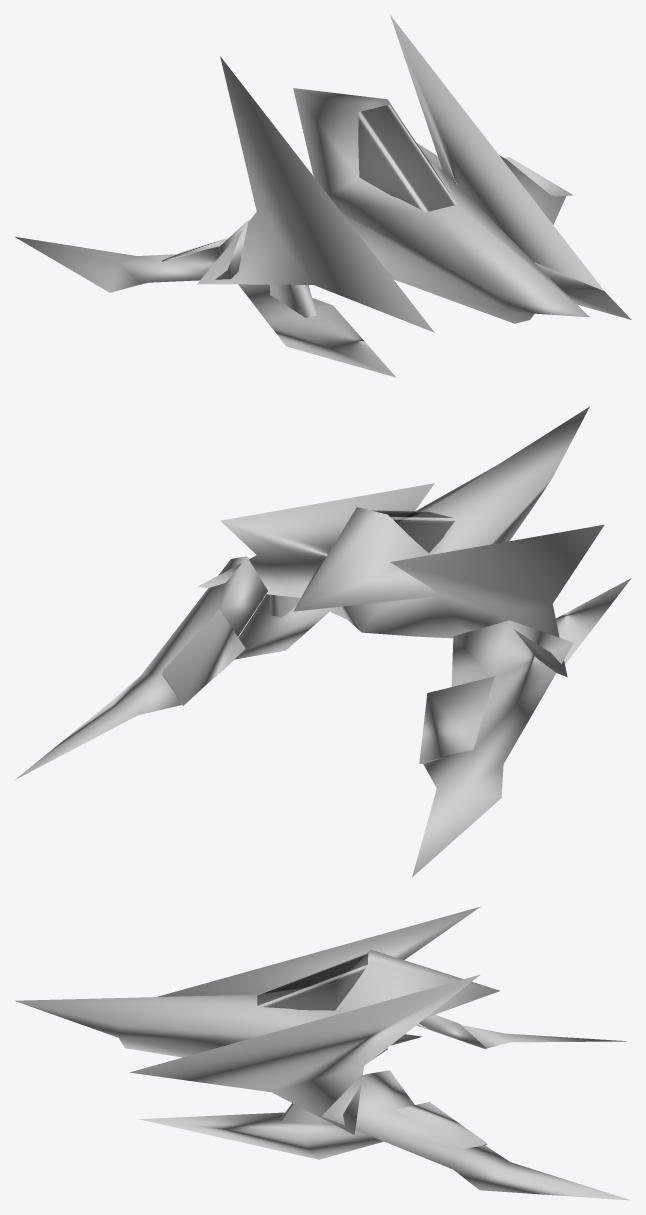
File: arwingNew26.obj
3 views of the same model, one above another, from view 1: azimuth 30°, elevation 25°; view 2: azimuth 150°, elevation 25°; view 3: azimuth 270°, elevation 25° (orthographic). The views are drawn at different scales.
Parts seen in each view (by area): view 1: Arwing.002; view 2: Arwing.002; view 3: Arwing.002.
Part boxes in pixels (left/top/right/bottom): Arwing.002: left=14, top=15, right=631, bottom=377; Arwing.002: left=14, top=406, right=631, bottom=877; Arwing.002: left=14, top=906, right=630, bottom=1200.
Size of the model in its own units: 4.06 by 2.15 by 6.66.
